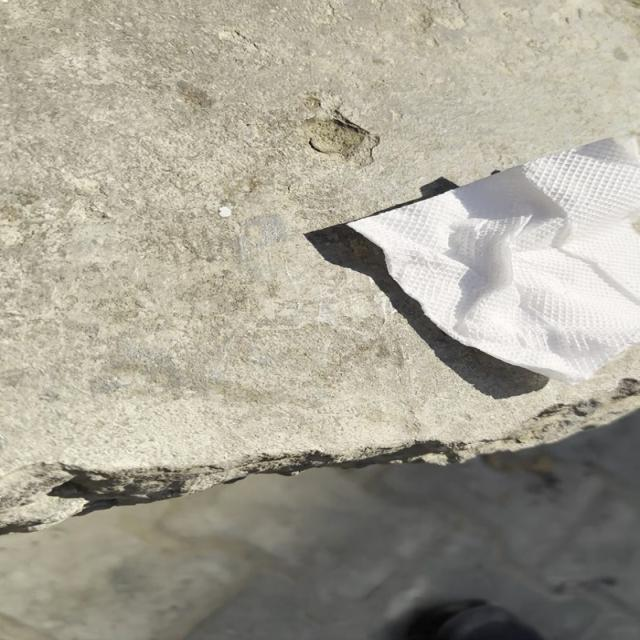tissue: (341, 129, 640, 390)
